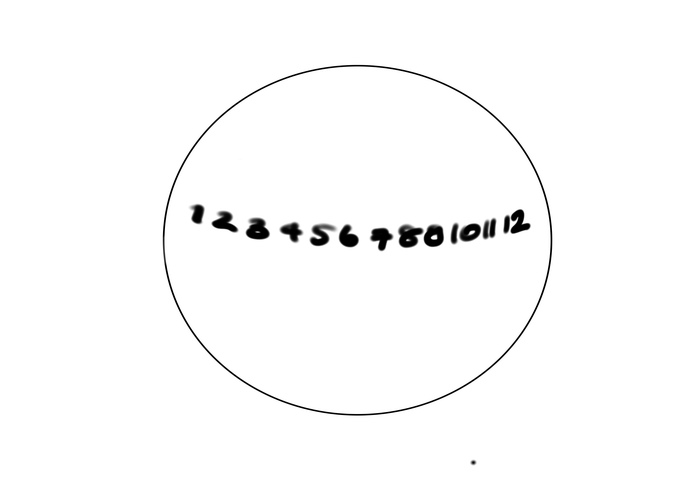eight: (397, 220, 423, 252)
eleven: (482, 211, 500, 241)
five: (307, 216, 334, 250)
four: (278, 213, 305, 246)
nine: (422, 217, 448, 251)
one: (184, 197, 208, 230)
seven: (371, 223, 395, 253)
six: (334, 217, 360, 252)
ten: (449, 217, 483, 246)
three: (242, 210, 274, 246)
twelve: (498, 202, 532, 238)
two: (210, 204, 242, 236)
